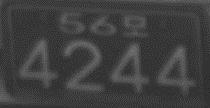2: (64, 39, 104, 92)
4: (17, 37, 58, 88), (157, 45, 197, 96), (111, 42, 150, 91)
5: (59, 11, 85, 35)
6: (90, 12, 116, 36)
모: (121, 13, 147, 38)
